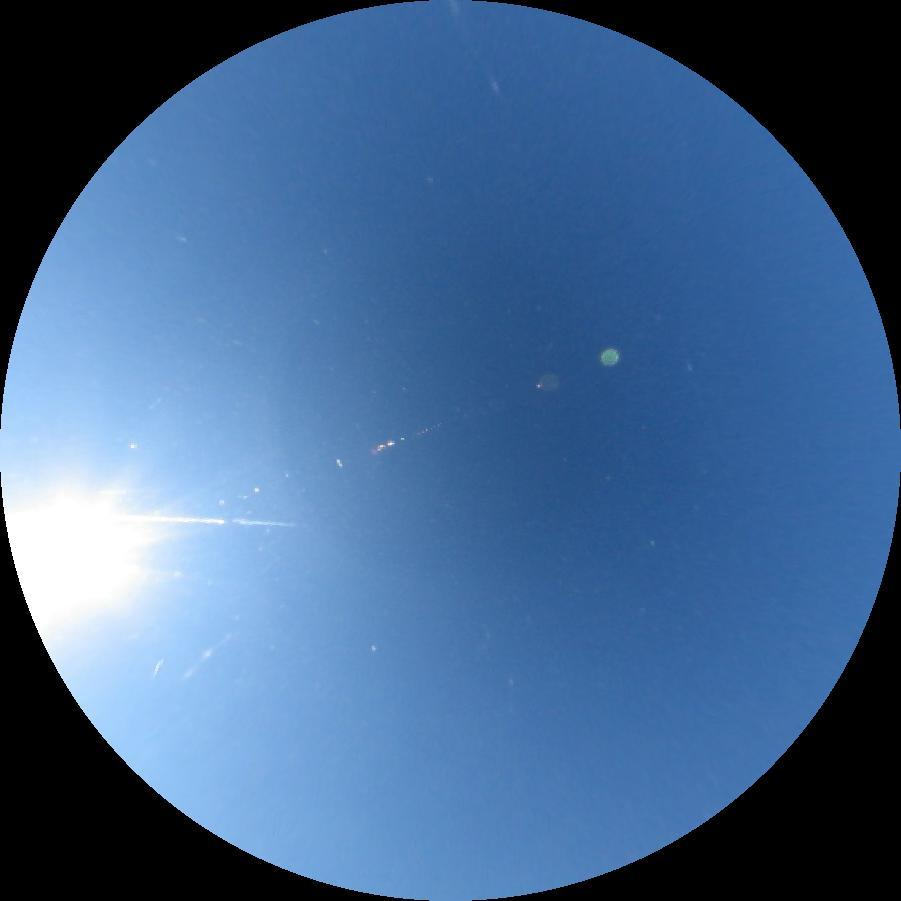contrail young: (144, 655, 166, 681)
parasite: (175, 628, 231, 684)
sun: (1, 479, 172, 632)
